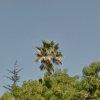Palm tree: (22, 22, 74, 89)
